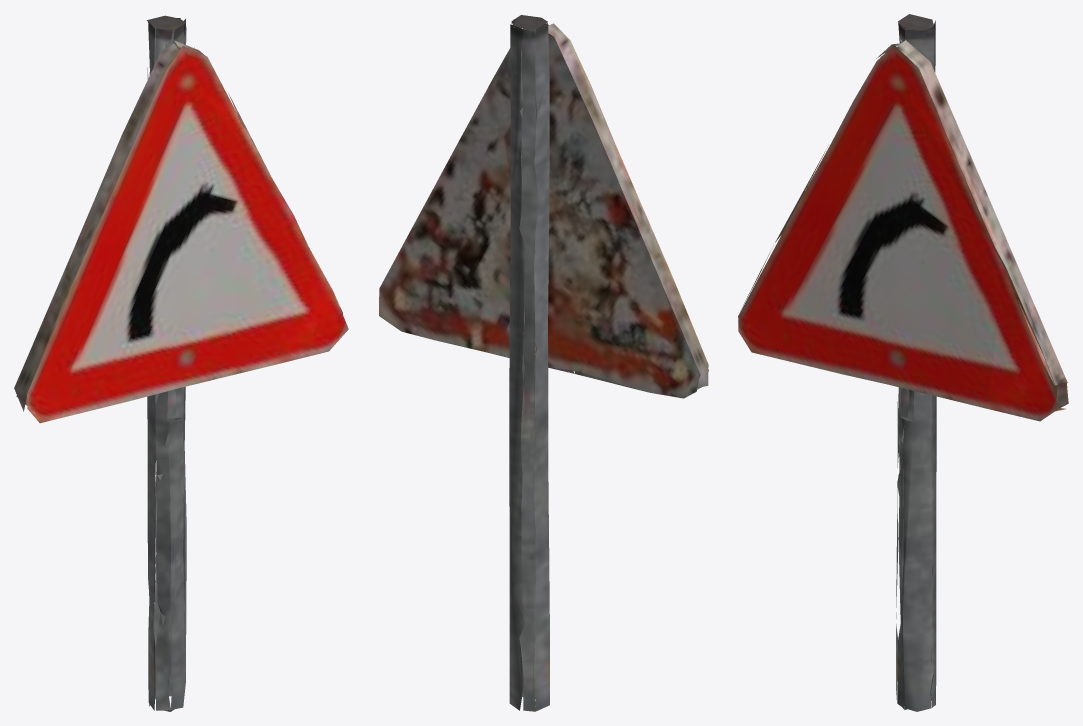
Rendered from stadt_schild_kurve_lo.glb.
3 renders of one model, left to right at view 1: azimuth 30°, elevation 25°; view 2: azimuth 150°, elevation 25°; view 3: azimuth 330°, elevation 25°, orthographic.
Parts seen in each view (by area): view 1: Prop; view 2: Prop; view 3: Prop.
Boxes of the visible parts, bbox=[...] form: Prop: bbox=[14, 15, 348, 711]; Prop: bbox=[379, 15, 708, 711]; Prop: bbox=[738, 14, 1068, 711].
Bounding box in the file's own units: 0.497 × 1 × 0.0837.
1 material, 1 textured.
